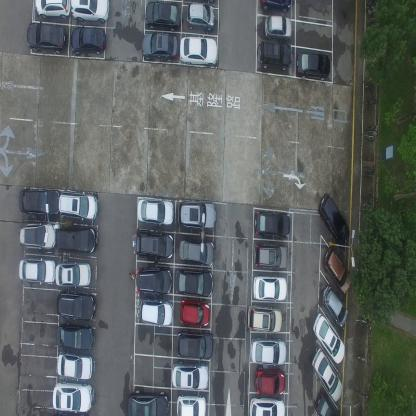car: (312, 310, 346, 365), (312, 348, 344, 402), (318, 193, 350, 246), (322, 245, 352, 295), (132, 228, 174, 260), (53, 382, 93, 415), (25, 21, 66, 53), (177, 198, 216, 231), (57, 190, 98, 221), (321, 282, 348, 329), (18, 186, 60, 216), (175, 266, 212, 300), (180, 35, 218, 68), (18, 220, 57, 251), (142, 31, 178, 64), (256, 40, 292, 73), (178, 236, 215, 268), (171, 360, 209, 391), (248, 302, 282, 336), (176, 330, 213, 361), (56, 352, 94, 382), (136, 196, 174, 226), (144, 0, 182, 30), (57, 292, 96, 321), (135, 265, 172, 295), (19, 256, 55, 286), (70, 27, 106, 57), (127, 389, 168, 415), (297, 50, 330, 82), (254, 208, 290, 237), (250, 336, 286, 365), (55, 261, 92, 289), (57, 323, 93, 351), (254, 241, 288, 270), (139, 299, 174, 327), (179, 298, 210, 328), (185, 0, 215, 31), (254, 274, 288, 301), (255, 367, 285, 397), (70, 0, 109, 23), (264, 14, 292, 40), (249, 396, 286, 415), (35, 0, 70, 20), (176, 393, 206, 415), (315, 392, 338, 415), (258, 0, 290, 15)
